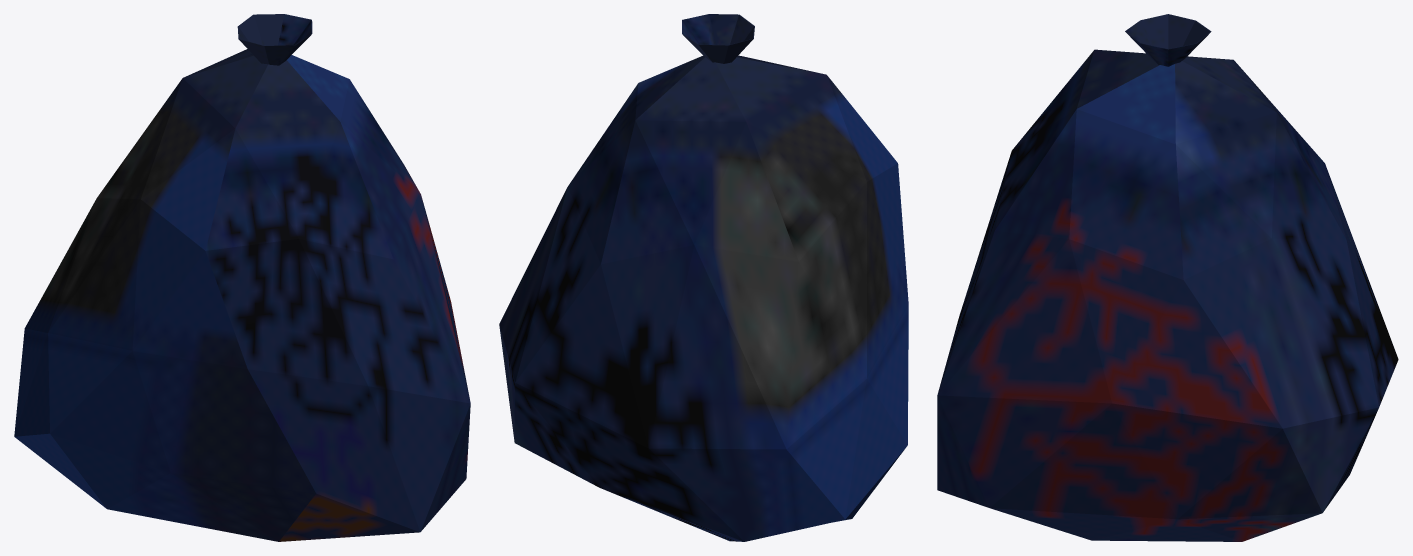
File: garbagebag.fbx
3 views of the same model, side by side, from view 1: azimuth 30°, elevation 25°; view 2: azimuth 150°, elevation 25°; view 3: azimuth 270°, elevation 25° (orthographic). The views are drawn at different scales.
Visible parts, largest first — view 1: Icosphere; view 2: Icosphere; view 3: Icosphere.
Boxes of the visible parts, left/top/right/bottom form: Icosphere: left=14, top=14, right=470, bottom=541; Icosphere: left=499, top=14, right=908, bottom=541; Icosphere: left=937, top=14, right=1398, bottom=541.
Bounding box in the file's own units: 245 × 301 × 251.
